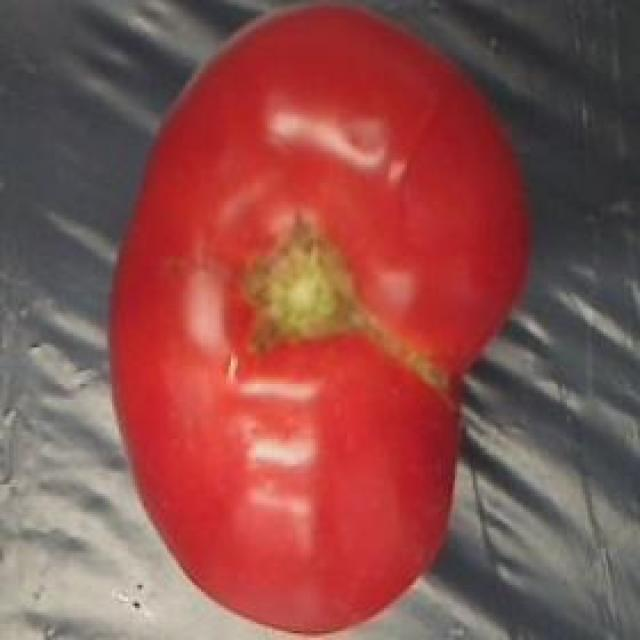overripe tomato: (98, 2, 551, 640)
